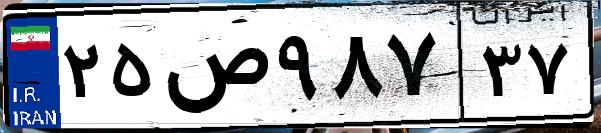2: (57, 26, 110, 100)
3: (475, 38, 525, 113)
5: (110, 28, 158, 98)
7: (385, 28, 445, 110), (525, 38, 570, 115)
8: (330, 28, 385, 110)
9: (270, 28, 330, 110)
ص: (158, 20, 270, 120)
